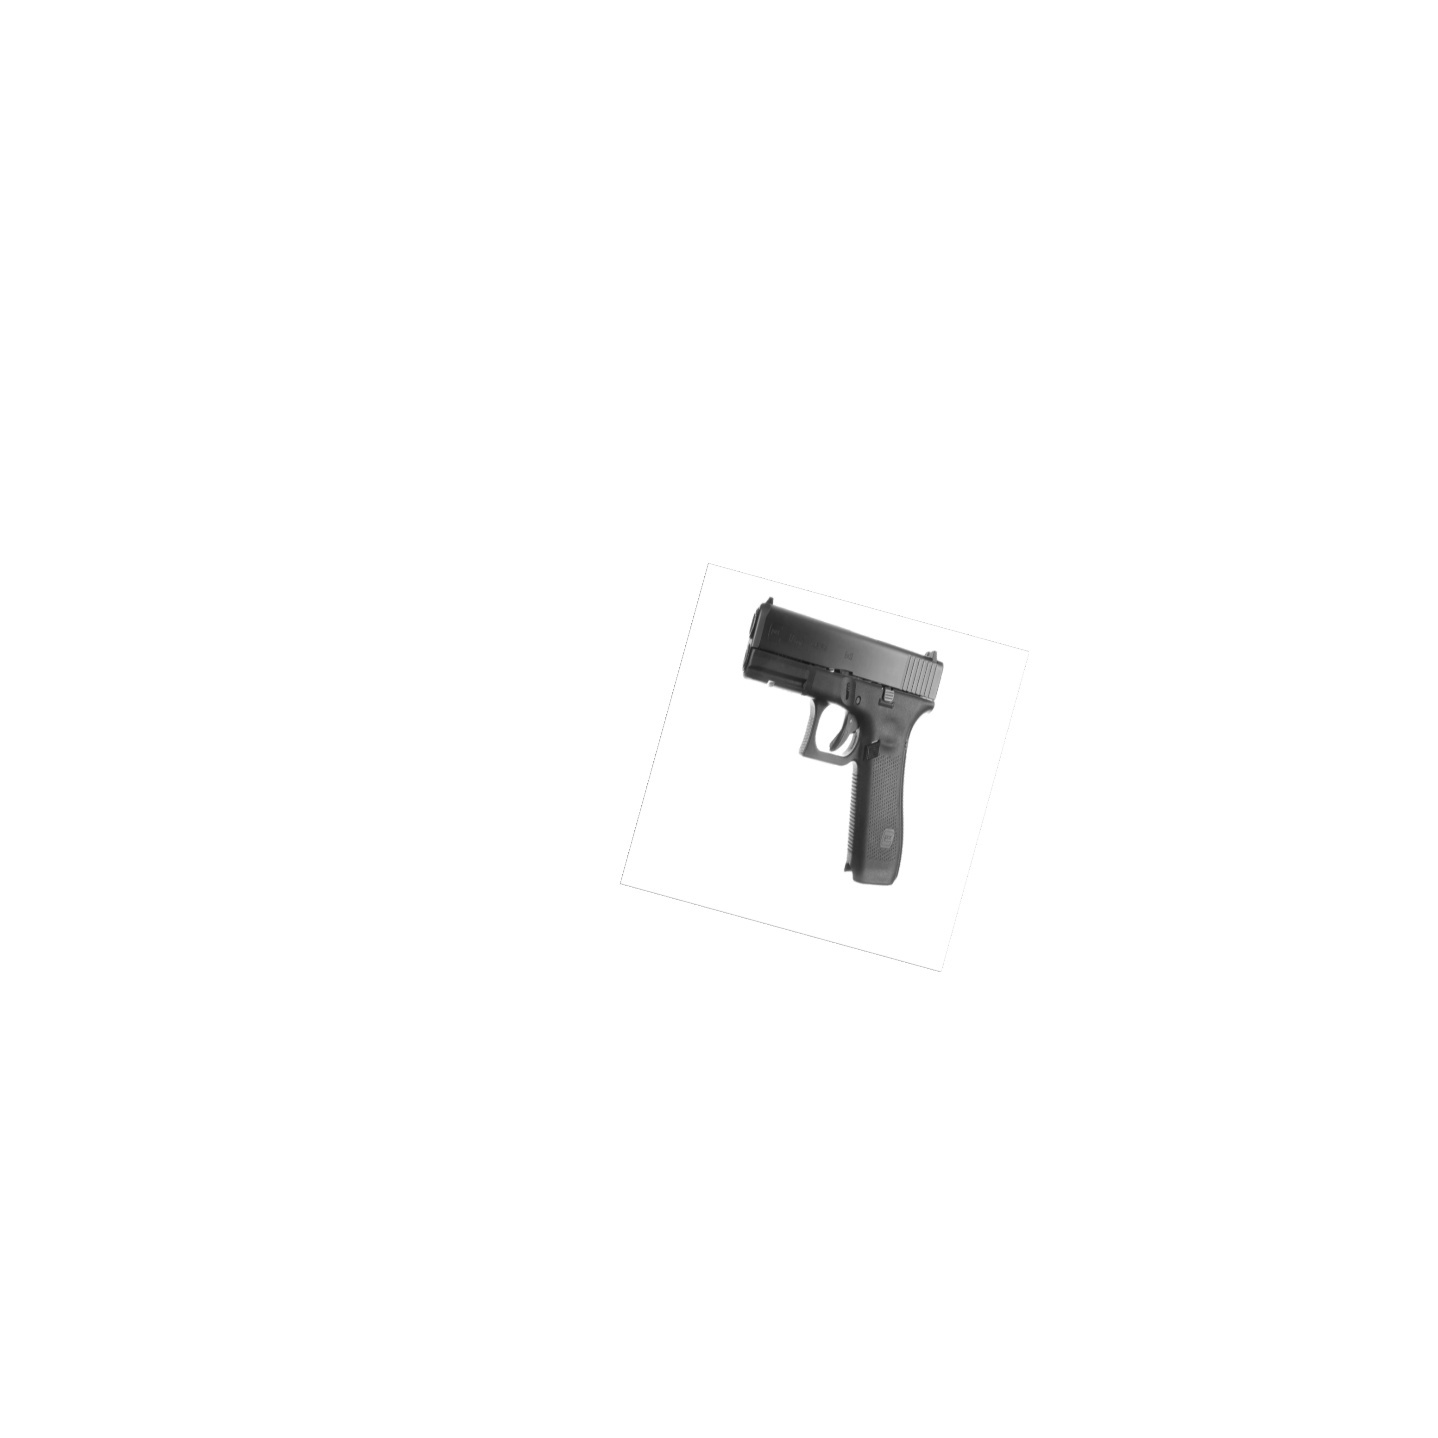gun: (741, 597, 944, 888)
